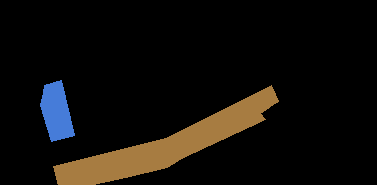parkingspot: (53, 85, 278, 185), (40, 80, 74, 141)
